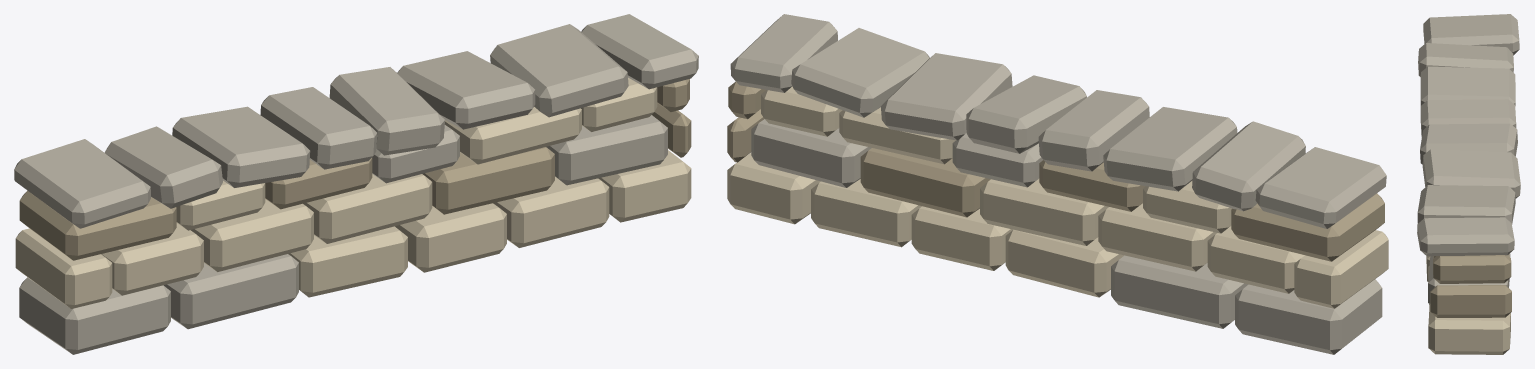
The model's file is stone_wall.glb.
The picture shows the model from 3 angles, left to right: view 1: azimuth 30°, elevation 25°; view 2: azimuth 150°, elevation 25°; view 3: azimuth 270°, elevation 25°; orthographic projection. The views are drawn at different scales.
Parts seen in each view (by area): view 1: LOD0; view 2: LOD0; view 3: LOD0.
Part boxes in pixels (box(x1,y1,x2,y2)): LOD0: box(14, 14, 698, 354); LOD0: box(727, 14, 1388, 354); LOD0: box(1417, 14, 1520, 354).
Size of what is drawn, in the model's own units: 3.99 by 1.02 by 0.7677.
1 material, 1 textured.
